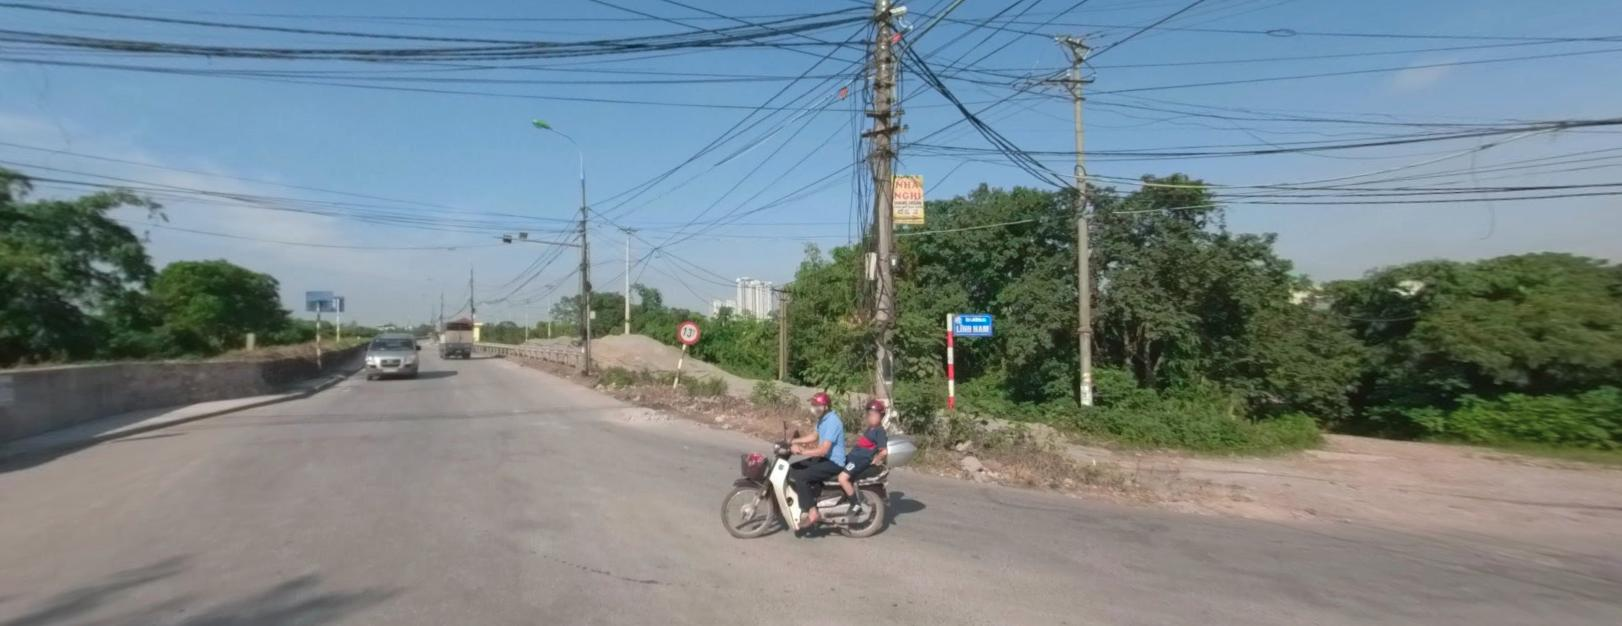Cam con lai: (675, 319, 701, 342)
